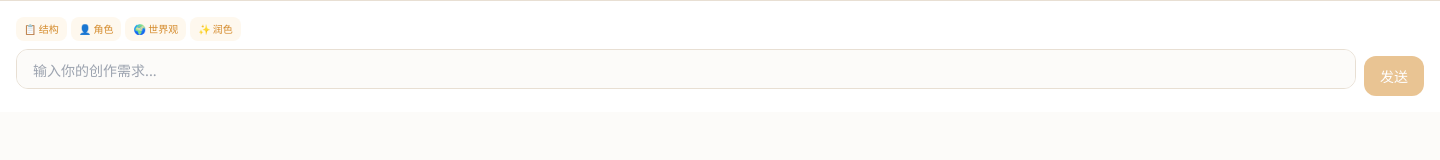
Scenario: ChatInput › should insert skill marker at cursor
The width and height of the screenshot is (1440, 160).
Type "test" into the text box with placeholder "输入你的创作需求..." at point(686, 69), box 16,49 -> 1356,89
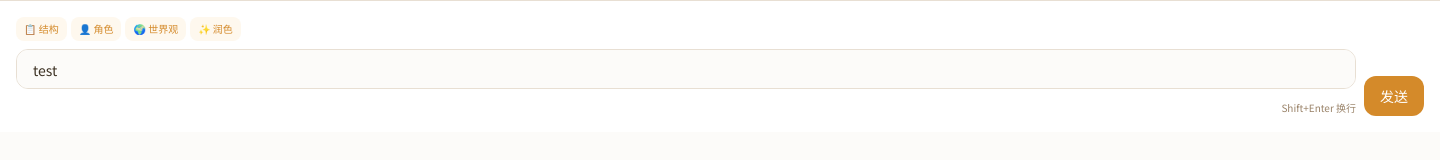
Click the button titled "插入故事结构技能" at point(41, 29), box 16,17 -> 67,41
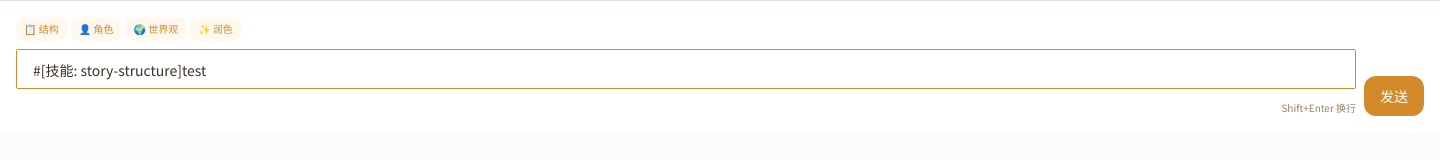
Check: the text box with placeholder "输入你的创作需求..." holds "#[技能: story-structure]test", box 16,49 -> 1356,89
